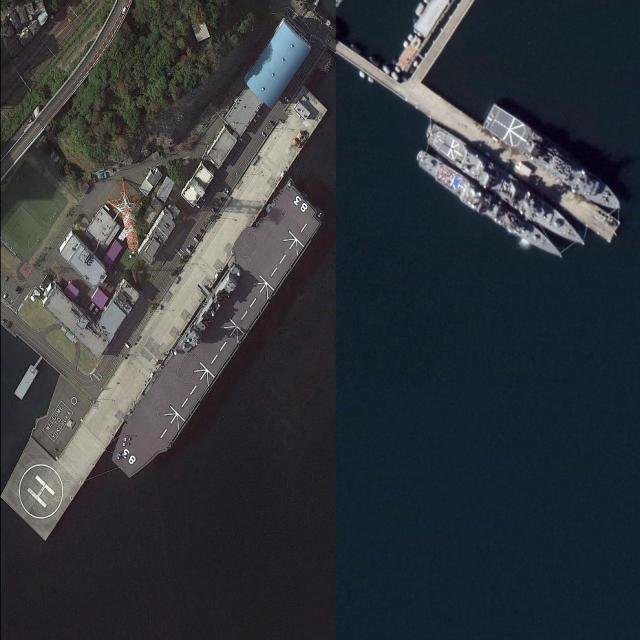Destroyer: (96, 175, 336, 487), (418, 116, 595, 255), (414, 150, 568, 264)
Dock: (408, 84, 623, 241)
Landing: (477, 103, 631, 218)
